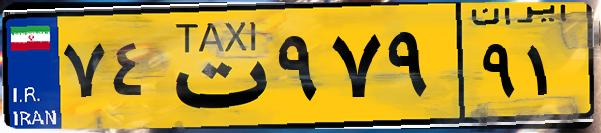1: (525, 38, 570, 115)
4: (110, 28, 158, 98)
7: (330, 28, 385, 110), (57, 26, 110, 100)
9: (270, 28, 330, 110), (385, 28, 445, 110), (475, 38, 525, 113)
ت: (158, 12, 270, 120)
